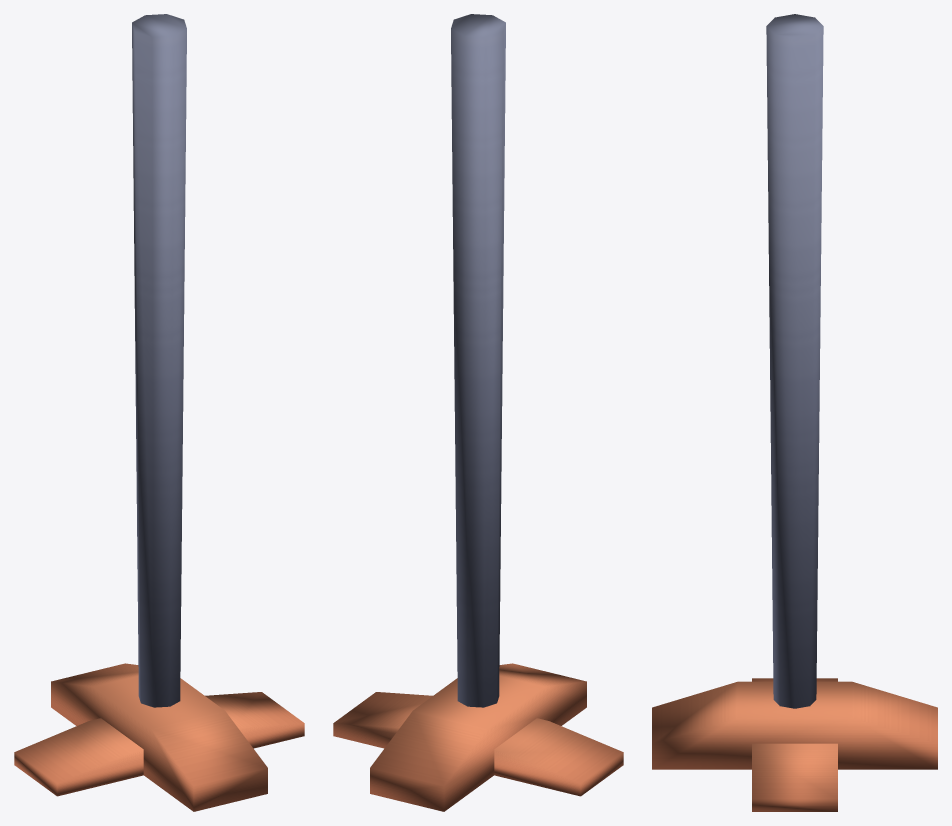
Rendered from festivus-pole_lev3.glb.
3 views of the same model, side by side, from view 1: azimuth 30°, elevation 25°; view 2: azimuth 150°, elevation 25°; view 3: azimuth 270°, elevation 25° (orthographic).
Parts seen in each view (by area): view 1: festivus-pole_lev3; view 2: festivus-pole_lev3; view 3: festivus-pole_lev3.
Boxes of the visible parts, x1,y1,x2,y2 form: festivus-pole_lev3: [14, 14, 304, 811]; festivus-pole_lev3: [333, 14, 623, 811]; festivus-pole_lev3: [652, 14, 937, 811].
Size of the model in its own units: 0.5 by 1.4 by 0.5.
1 material, 1 textured.
